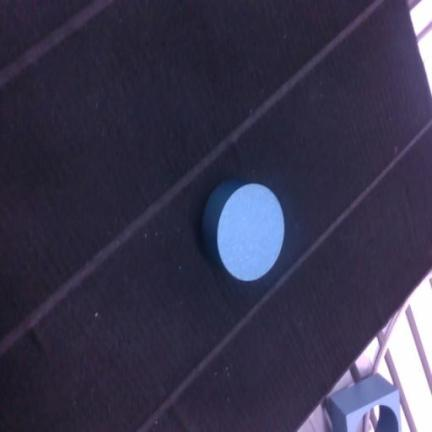cylinder: (202, 179, 284, 281)
